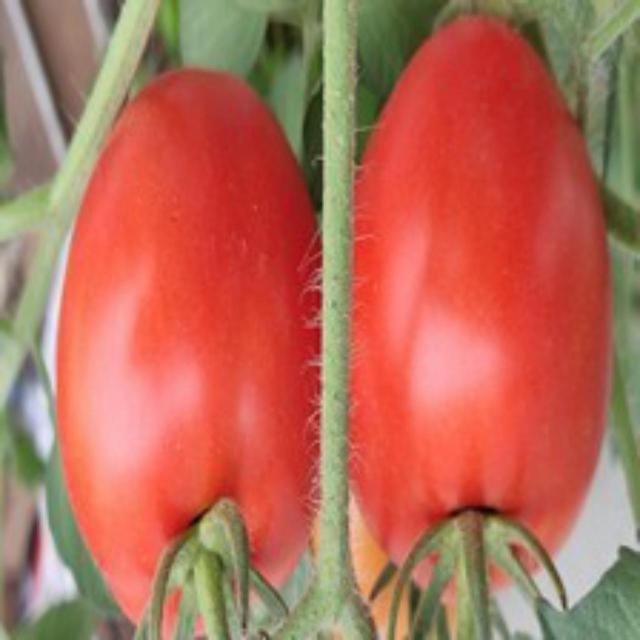tomato: (337, 6, 617, 636), (48, 54, 337, 637)
